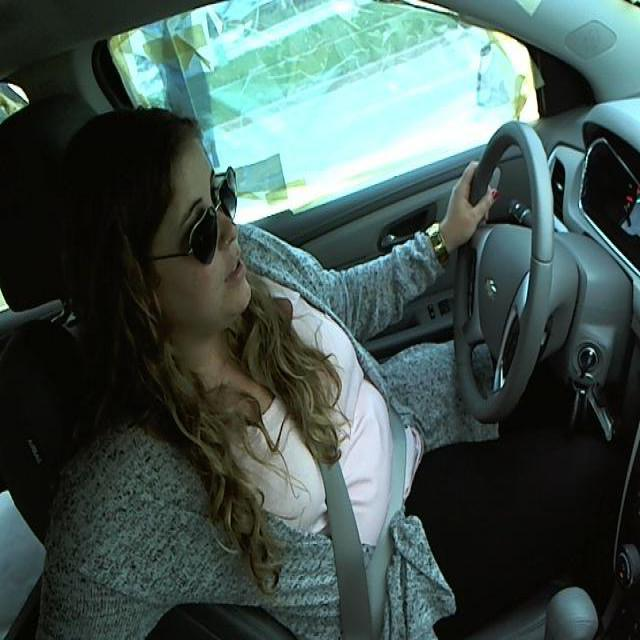seatbelt: (271, 368, 412, 631)
